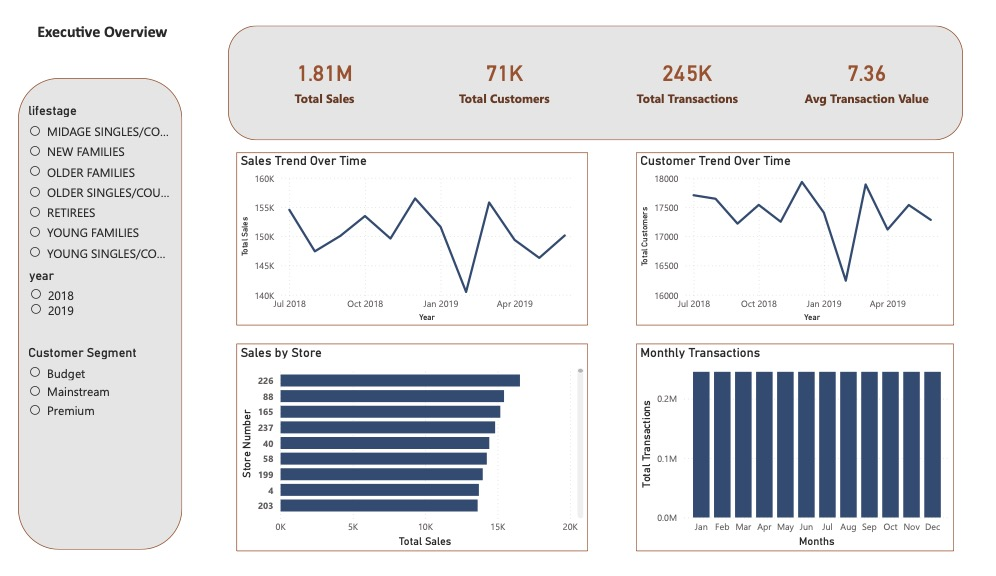

The dashboard page shown, as its layout file describes it:
{"tool":"powerbi","page":{"name":"Executive Overview","canvas":[1280,720],"ordinal":0},"visuals":[{"type":"textbox","box":[11.4,0,1260,54.3],"z":0},{"type":"textbox","box":[21.4,91.4,1250,51.4],"z":1000},{"type":"textbox","box":[869.8,517.4,401.2,202.3],"z":2000},{"type":"textbox","box":[43.9,683.4,399.3,37],"z":4000},{"type":"lineChart","title":" Sales Trend over Time","fields":{"Y":["Sum(data_clean.tot_sales)"],"Category":["data_clean.month_start_date.Variation.Date Hierarchy.Year","data_clean.month_start_date.Variation.Date Hierarchy.Quarter","data_clean.month_start_date.Variation.Date Hierarchy.Month","data_clean.month_start_date.Variation.Date Hierarchy.Day"]},"box":[33.7,326.7,409.3,164],"z":5000},{"type":"clusteredBarChart","title":"Revenue by Segment","fields":{"Category":["data_clean.premium_customer"],"Y":["data_clean.Total Sales"]},"box":[459.3,326.7,400,164],"z":6000},{"type":"lineChart","title":"Trial vs Control Sales Over Time","fields":{"Category":["PowerBI_Quantium.MonthDate.Variation.Date Hierarchy.Year"],"Y":["Sum(PowerBI_Quantium.tot_sales)"],"Series":["PowerBI_Quantium.store_role"]},"box":[870.9,323.3,400,167.4],"z":7000},{"type":"clusteredBarChart","title":"Top 5 Stores by Revenue","fields":{"Category":["data_clean.store_nbr"],"Y":["Sum(data_clean.tot_sales)"]},"box":[33.7,517.4,414,202.3],"z":8000},{"type":"textbox","box":[544.8,46.7,234.6,46.7],"z":9000},{"type":"textbox","box":[263.5,46.7,281.3,46.7],"z":10000},{"type":"textbox","box":[20.6,46.7,242.9,46.7],"z":11000},{"type":"textbox","box":[779.4,46.7,220.9,46.7],"z":12000},{"type":"textbox","box":[1000.3,46.7,270.3,46.7],"z":13000},{"type":"textSlicer","title":"Life Stage","fields":{"Values":["data_clean.lifestage"]},"box":[840,142.9,215.7,82.9],"z":15000},{"type":"advancedSlicerVisual","title":"Customer Segment","fields":{"Values":["data_clean.premium_customer"]},"box":[154.3,142.9,360,82.9],"z":16000},{"type":"textbox","box":[459.3,517.4,400,202.3],"z":17000},{"type":"PBI_CV_7B952816_A48F_49B4_9E13_15E3BB2C0337","title":"Total Customers","fields":{"Values":["data_clean.Total Customers"]},"box":[339.5,233.7,300,61.6],"z":18000},{"type":"PBI_CV_7B952816_A48F_49B4_9E13_15E3BB2C0337","title":"Total Revenue","fields":{"Values":["data_clean.Total Sales"]},"box":[33.7,233.7,300,61.6],"z":19000},{"type":"PBI_CV_7B952816_A48F_49B4_9E13_15E3BB2C0337","title":"Avg Transaction Value","fields":{"Values":["data_clean.Avg Transaction Value"]},"box":[646.5,234.9,300,61.6],"z":21000},{"type":"PBI_CV_7B952816_A48F_49B4_9E13_15E3BB2C0337","title":"Trial Sales Uplift%","fields":{"Values":["PowerBI_Quantium.Sales Uplift %"]},"box":[954.3,234.3,308.6,61.4],"z":22000}]}

Visuals, with their boxes in screenshot pixels (x1, y1, x2, y2), scaled from the page's 1280x720 canvas onto the 996x576 screenshot:
textbox: (9,0,989,43)
textbox: (17,73,989,114)
textbox: (677,414,989,575)
textbox: (34,547,345,575)
" Sales Trend over Time" lineChart: (26,261,345,393)
"Revenue by Segment" clusteredBarChart: (357,261,669,393)
"Trial vs Control Sales Over Time" lineChart: (678,259,989,393)
"Top 5 Stores by Revenue" clusteredBarChart: (26,414,348,575)
textbox: (424,37,606,75)
textbox: (205,37,424,75)
textbox: (16,37,205,75)
textbox: (606,37,778,75)
textbox: (778,37,989,75)
"Life Stage" textSlicer: (654,114,821,181)
"Customer Segment" advancedSlicerVisual: (120,114,400,181)
textbox: (357,414,669,575)
"Total Customers" PBI_CV_7B952816_A48F_49B4_9E13_15E3BB2C0337: (264,187,498,236)
"Total Revenue" PBI_CV_7B952816_A48F_49B4_9E13_15E3BB2C0337: (26,187,260,236)
"Avg Transaction Value" PBI_CV_7B952816_A48F_49B4_9E13_15E3BB2C0337: (503,188,736,237)
"Trial Sales Uplift%" PBI_CV_7B952816_A48F_49B4_9E13_15E3BB2C0337: (743,187,983,237)
